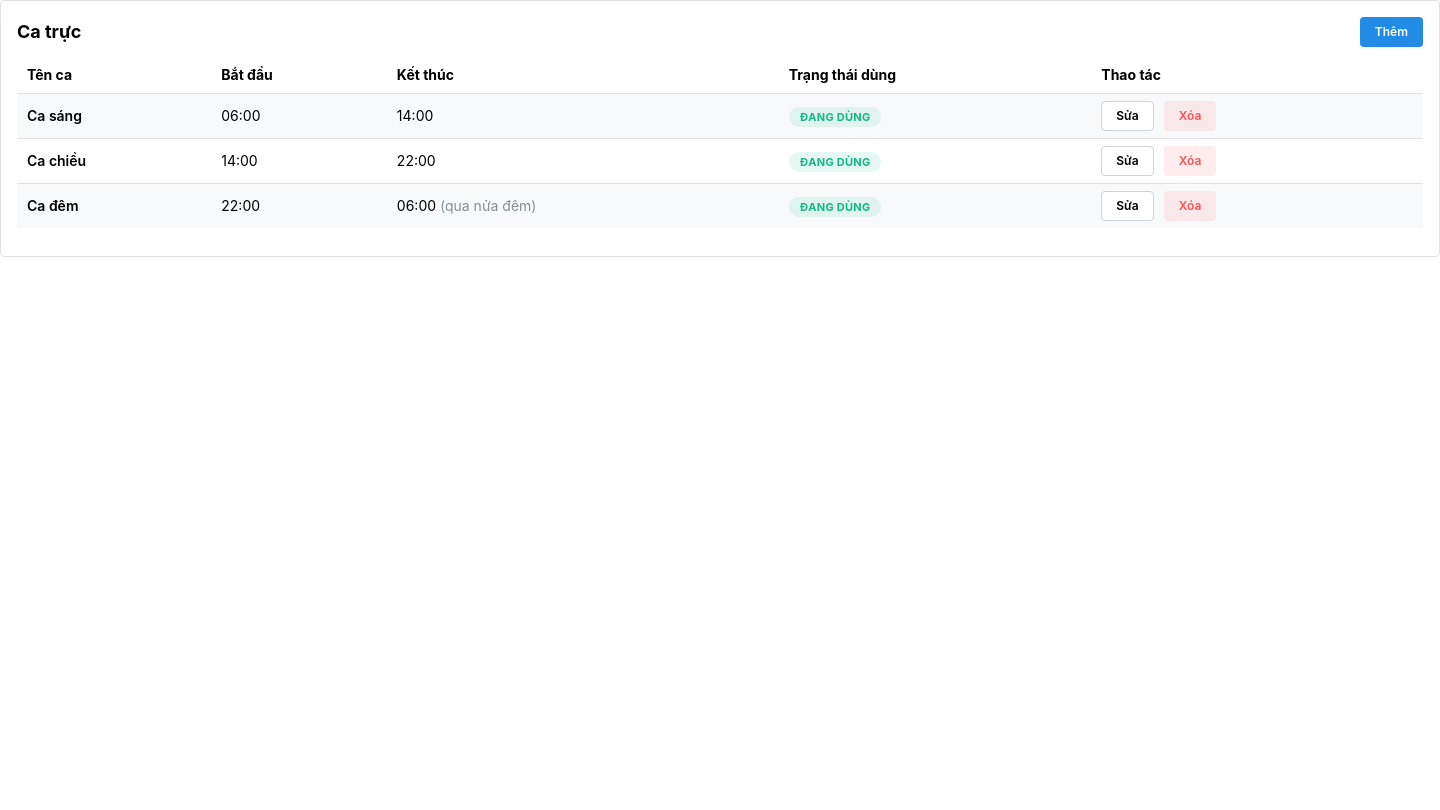
ShiftsTab › edit shows warning about past handovers and sends PATCH
Later steps or results of the test are not shown.
What coordinates should you click on to do the following:
click the button "Sửa" in the row of "Ca sáng"
I would click on:
 (1128, 116)
Its box is [1101, 101, 1154, 131].
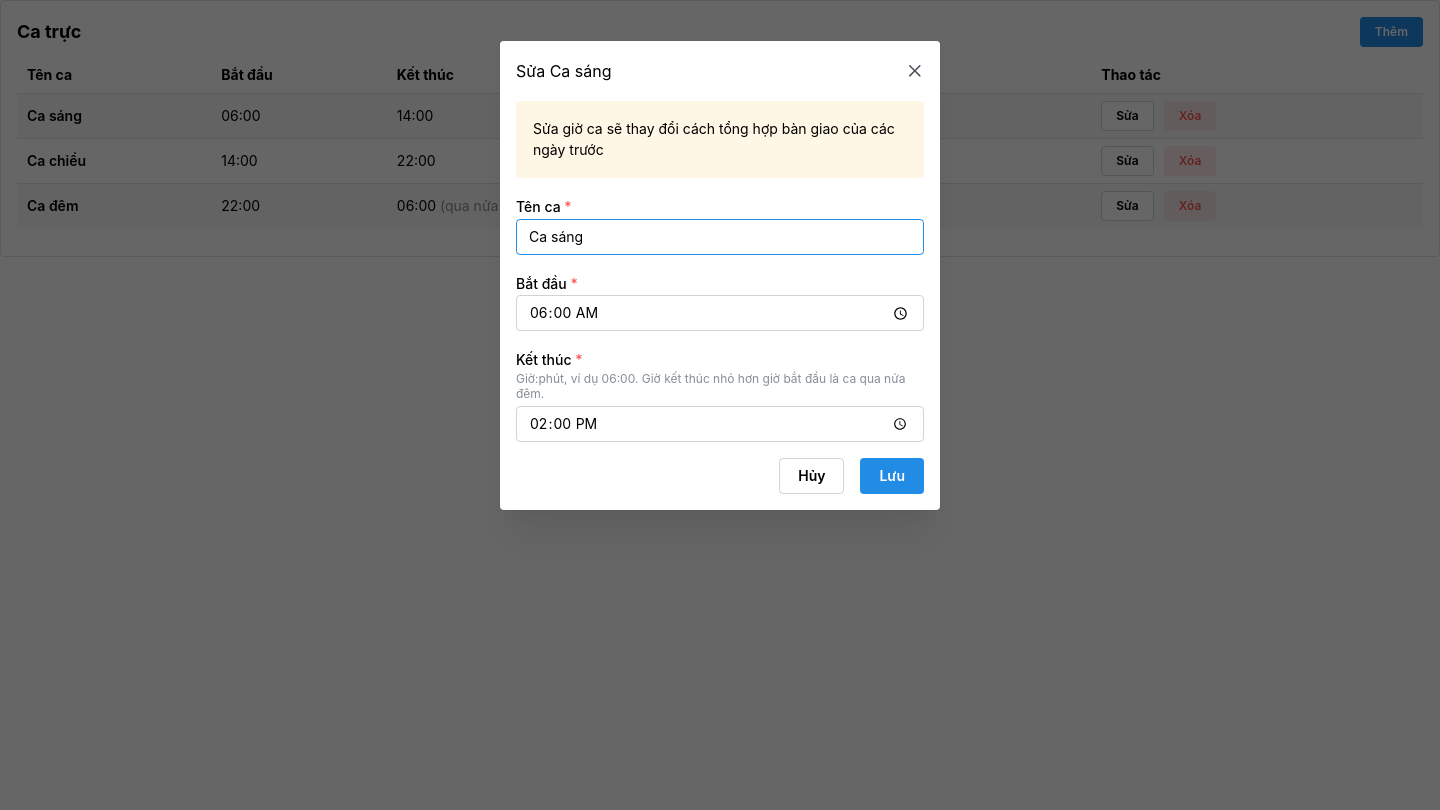
Result: the text "Sửa giờ ca sẽ thay đổi cách tổng hợp bàn giao của các ngày trước" is shown at [533, 118, 907, 161]
